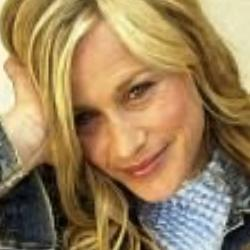face: (2, 1, 248, 202)
